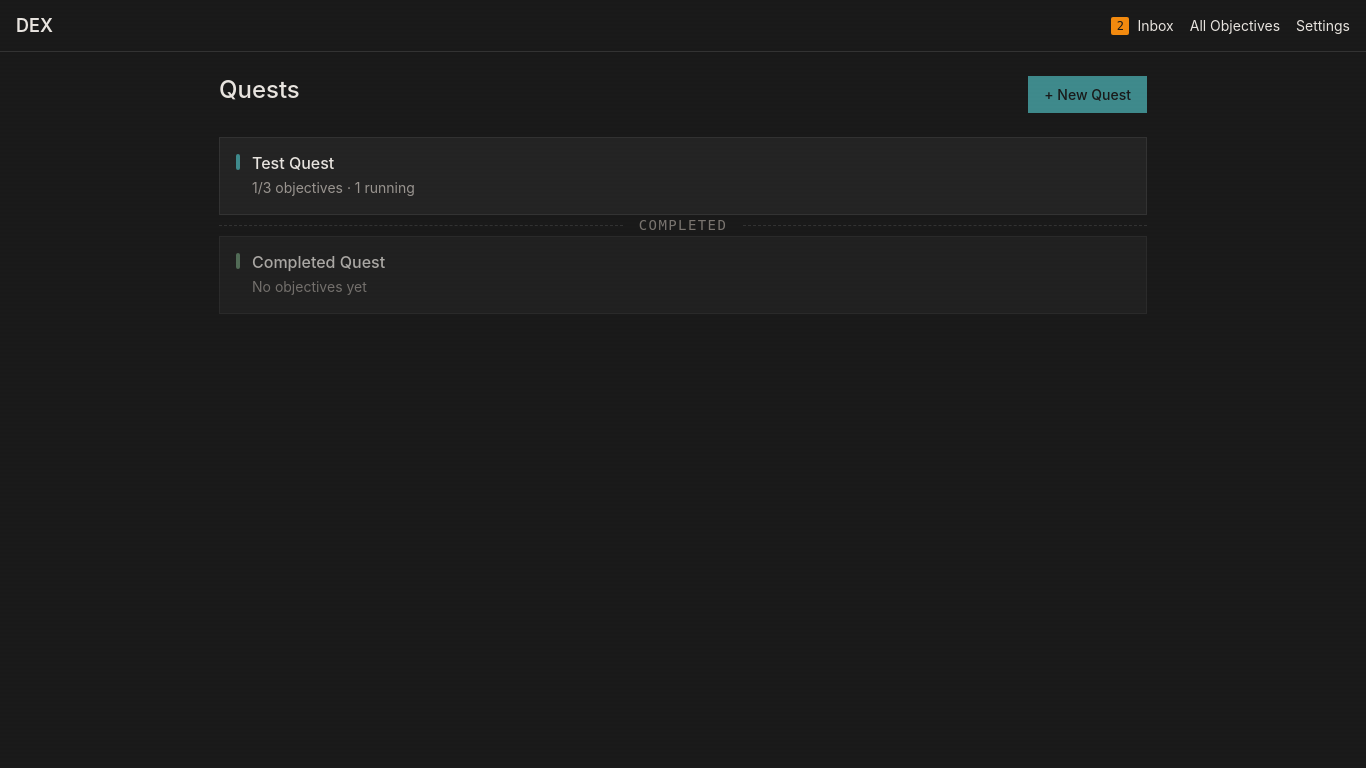
Test: Home › new quest › shows error toast on create failure
The image size is (1366, 768).
Click the button "+ New Quest" at (1088, 94), box [1028,76,1147,113]
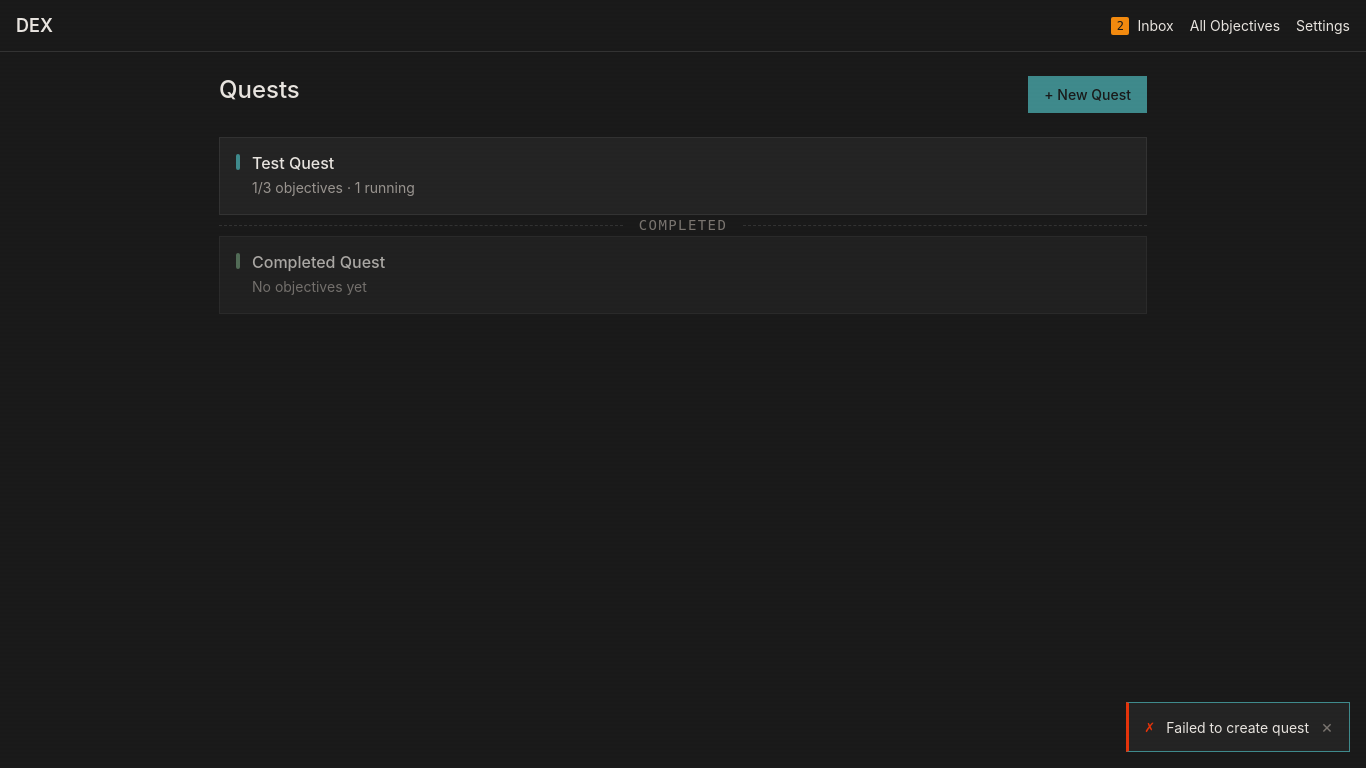
Check: the text "Failed to create quest" is shown, box [1166,716,1309,738]
